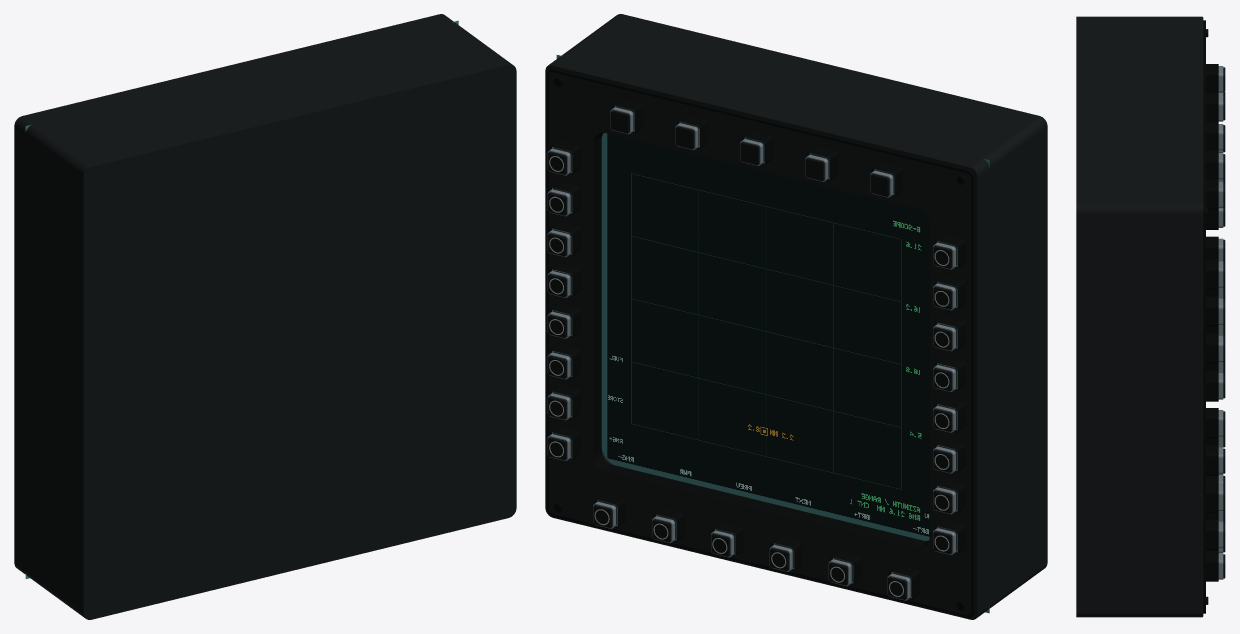
The model's file is MFDStudio.obj.
The picture shows the model from 3 angles, left to right: view 1: azimuth 30°, elevation 25°; view 2: azimuth 150°, elevation 25°; view 3: azimuth 270°, elevation 25°; orthographic projection. The views are drawn at different scales.
Visible parts, largest first — view 1: MFDStudioBody; view 2: MFDStudioBody, MFDStudioScreen; view 3: MFDStudioBody.
Part boxes in pixels (x1,y1,x2,y2): MFDStudioBody: (14,14,516,619); MFDStudioBody: (545,14,1047,619); MFDStudioScreen: (552,55,989,613); MFDStudioBody: (1076,16,1225,617).
Size of the model in its own units: 0.28 by 0.28 by 0.0917.
9 materials, 1 textured.
